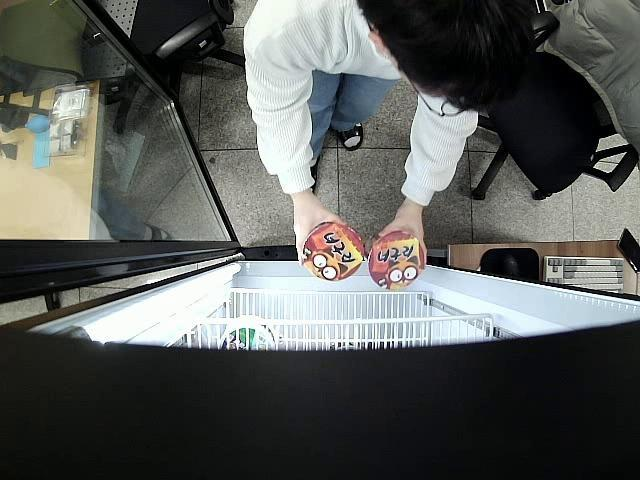05_nuguri_L: (365, 230, 424, 290), (301, 223, 362, 280)
